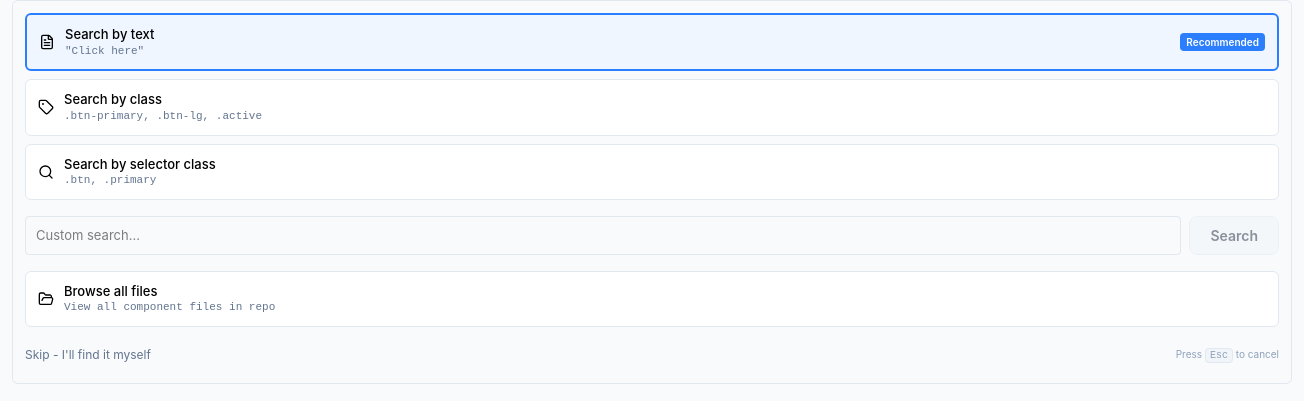
Test: findings/apply-fix/FileFinder › shows filter input in browse mode
Click the text "Browse all files": (111,291) [64,283,157,299]
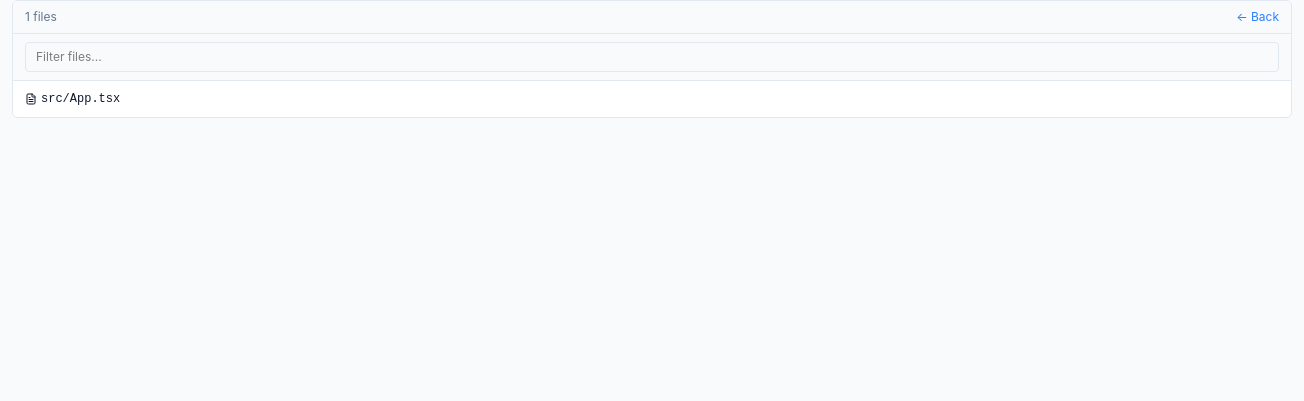
Expected: the field with placeholder "Filter files..." is shown, [25,42,1279,72]
